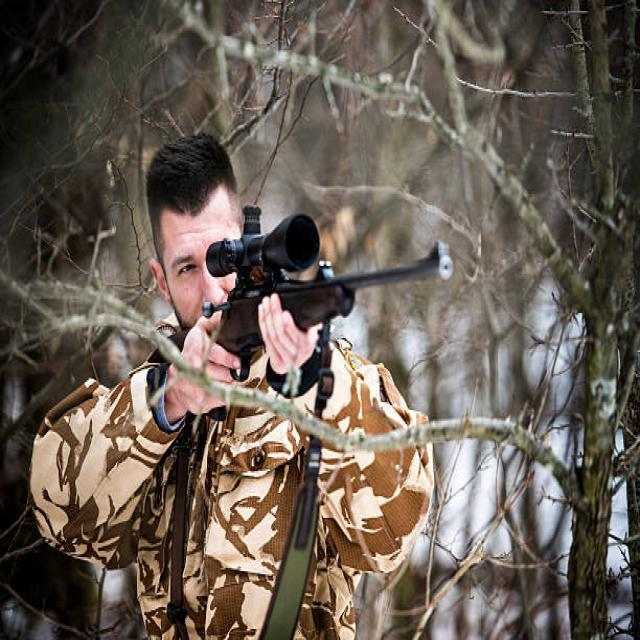rifle: (197, 202, 461, 359)
